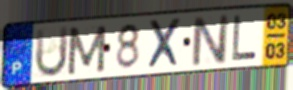8: (114, 22, 141, 72)
L: (230, 14, 258, 64)
M: (65, 24, 109, 77)
N: (191, 13, 229, 68)
U: (33, 24, 71, 80)
X: (146, 16, 183, 72)
